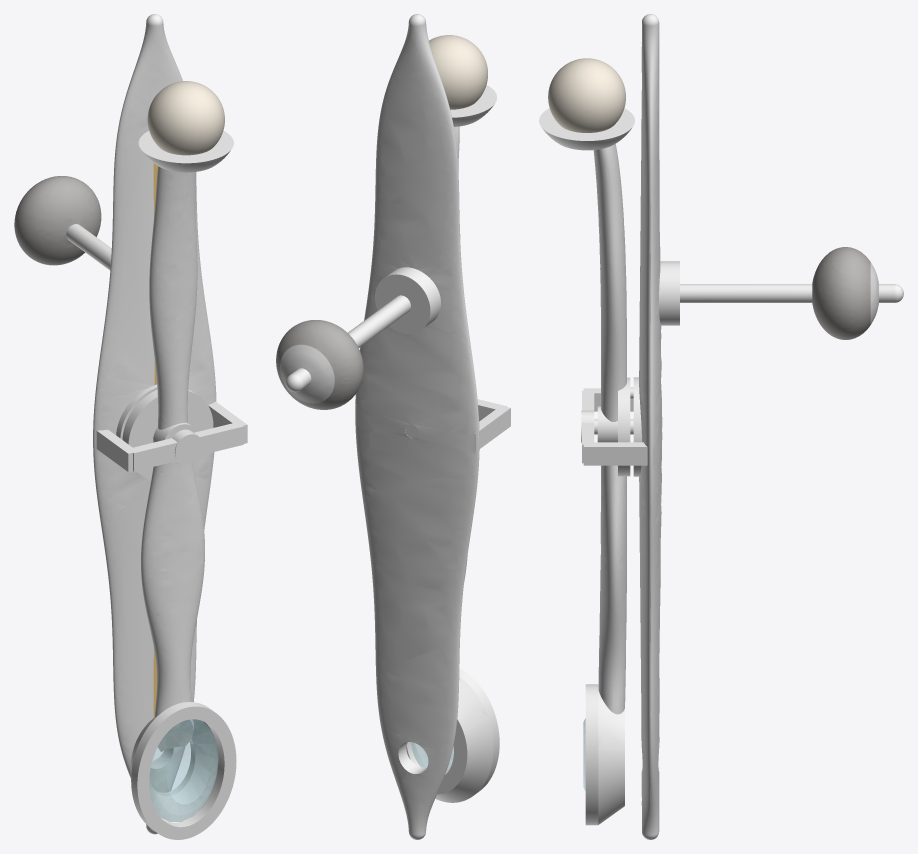
The model's file is Assembly.glb.
The picture shows the model from 3 angles, left to right: view 1: azimuth 30°, elevation 25°; view 2: azimuth 150°, elevation 25°; view 3: azimuth 270°, elevation 25°; orthographic projection.
Visible parts, largest first — view 1: Lever, Frame, Clutch, Aquamarine, Pearl, Post; view 2: Frame, Lever, Clutch, Pearl, ClutchCap, Post; view 3: Lever, Frame, Pearl, Clutch, Post.
Boxes of the visible parts, x1,y1,x2,y2 form: Lever: (122, 130, 236, 839); Frame: (93, 14, 247, 834); Clutch: (14, 176, 101, 265); Aquamarine: (149, 719, 218, 821); Pearl: (147, 81, 224, 155); Post: (66, 224, 111, 270); Frame: (355, 14, 510, 839); Lever: (406, 85, 499, 802); Clutch: (276, 320, 363, 409); Pearl: (429, 35, 487, 109); ClutchCap: (280, 344, 334, 403); Post: (286, 295, 410, 392); Lever: (539, 108, 634, 825); Frame: (581, 14, 679, 839); Pearl: (548, 58, 625, 132); Clutch: (812, 247, 870, 339); Post: (680, 284, 903, 302).
Size of the model in its own units: 0.0066 by 0.042 by 0.0168.
